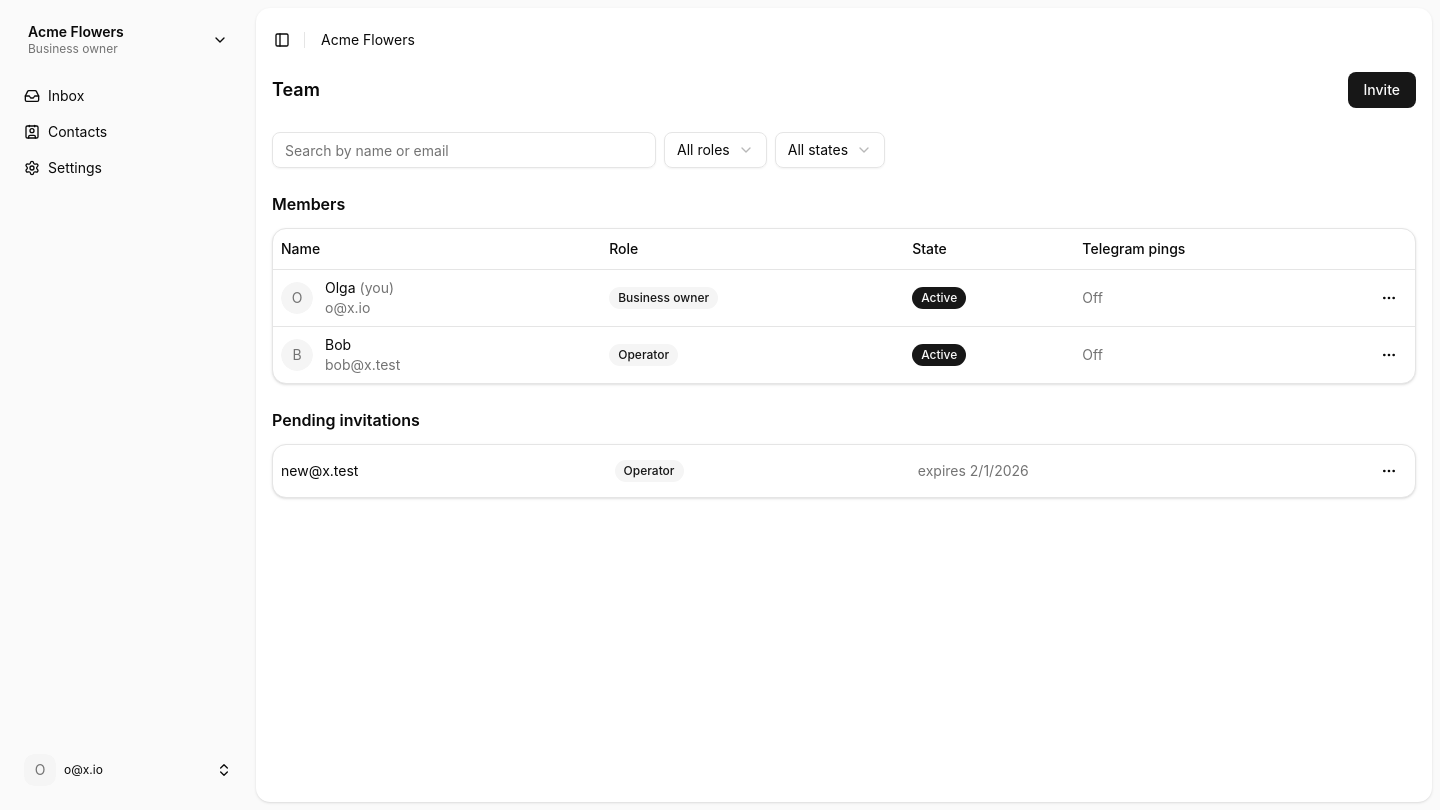
Test case: TeamPage (SCR-07) › revoke: confirm, row removed (AC-20)
Expected: the text "new@x.test" is shown, [273,444,607,496]
Press Enter in the button named "Actions for new@x.test", box [1371,452,1407,488]
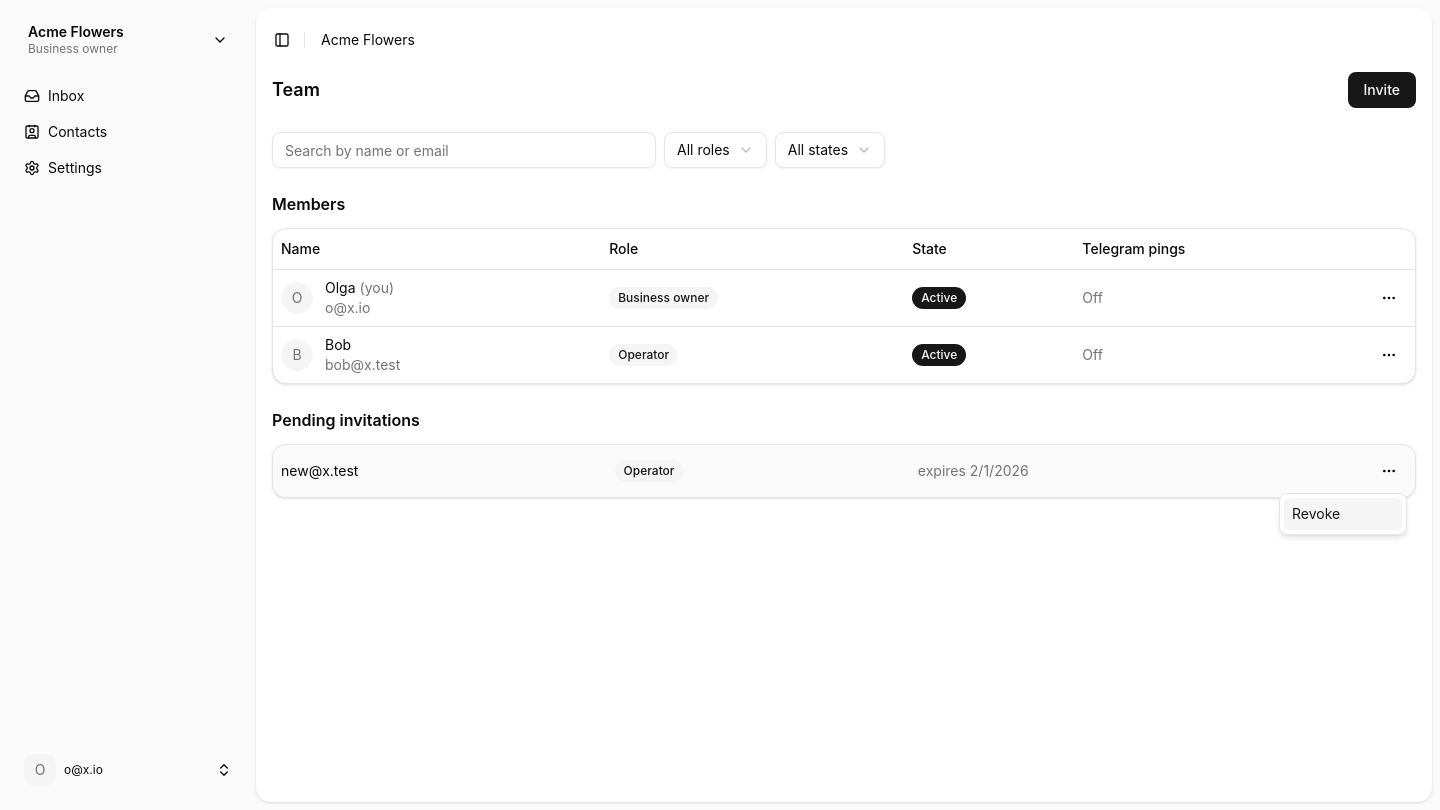
Click the menu item "Revoke" at (1343, 514), box [1284,498,1402,530]
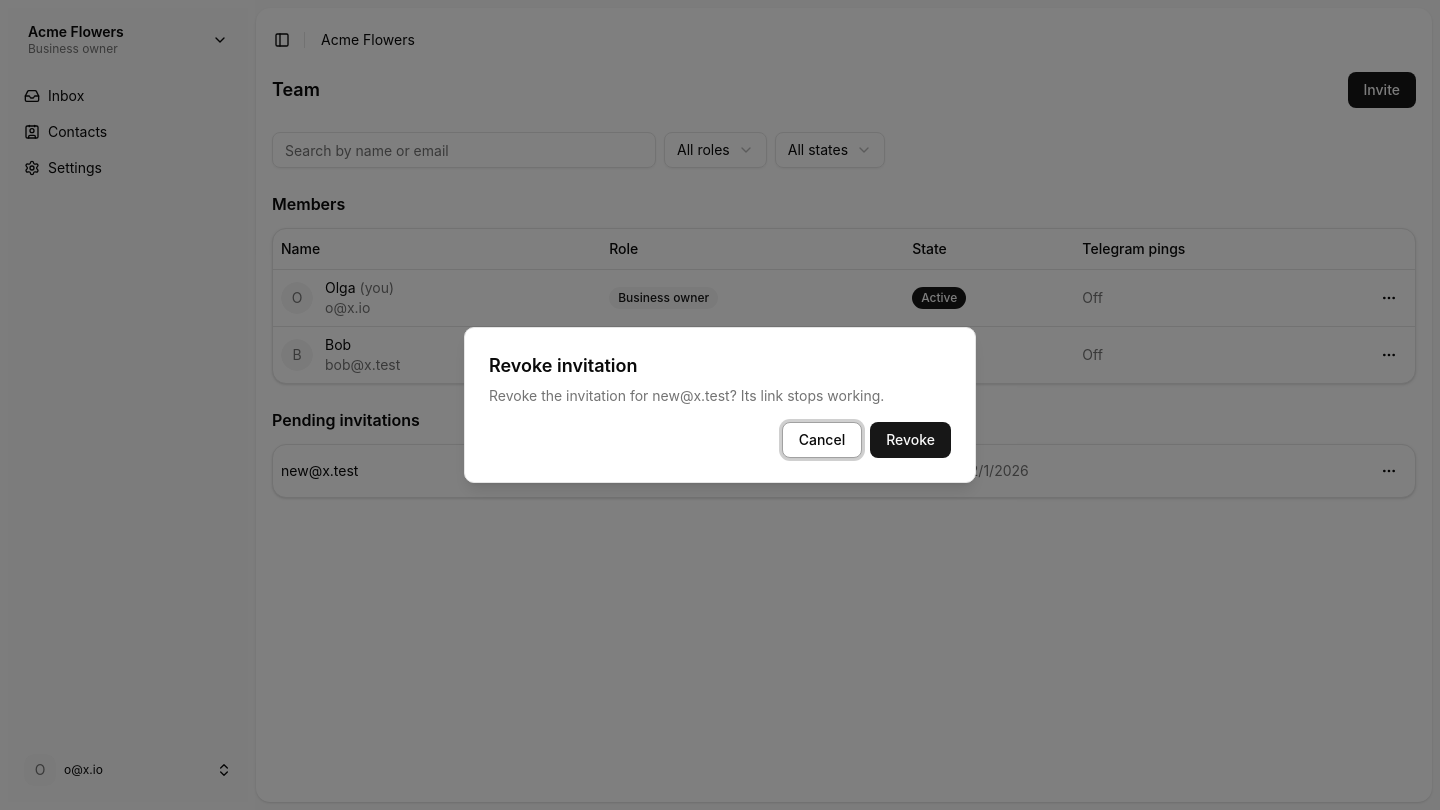
Result: the text "Revoke the invitation for new@x.test? Its link stops working." is shown at [489,386,884,406]
Click the button "Revoke" at (911, 440), box [870,422,951,458]
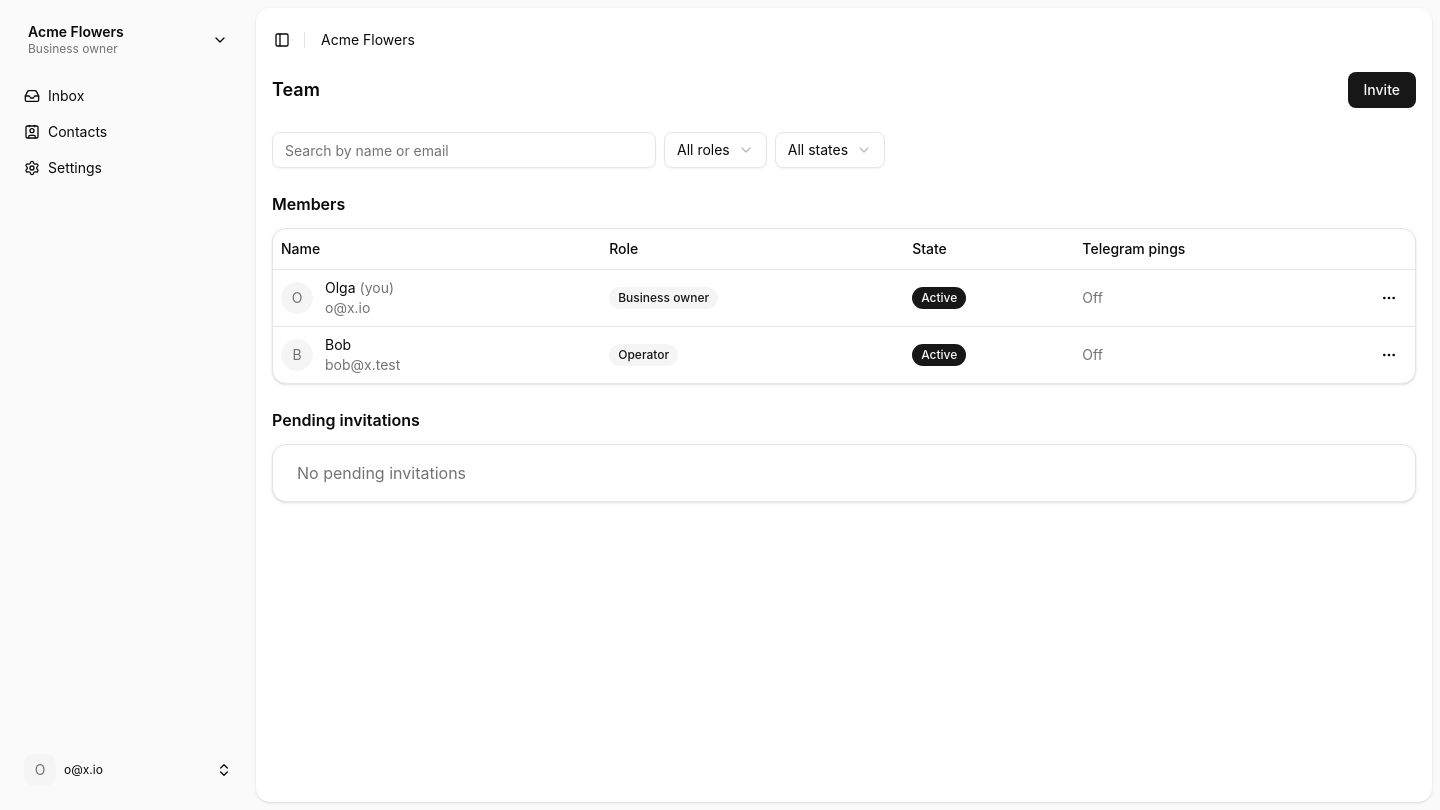
Result: the text "new@x.test" is gone
Result: the text "No pending invitations" is shown at [297,462,466,482]
